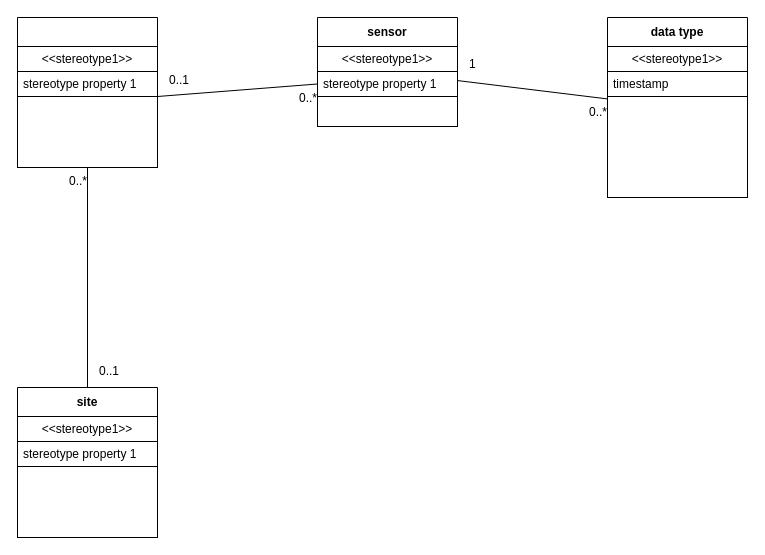
Image size: 765x555. Some labels were removed from this diagram. Here are the shapes that lost their labels. From the top down, the box of each, then its label:
(16, 16, 158, 168): asset
(316, 96, 458, 126): single sensor
(16, 96, 158, 168): A structure/prop which can have one or more sensors
(606, 96, 748, 198): unique piece of data generated from a sensor: * distance * temperature
(16, 466, 158, 538): a location. A site can have sub-sites?
